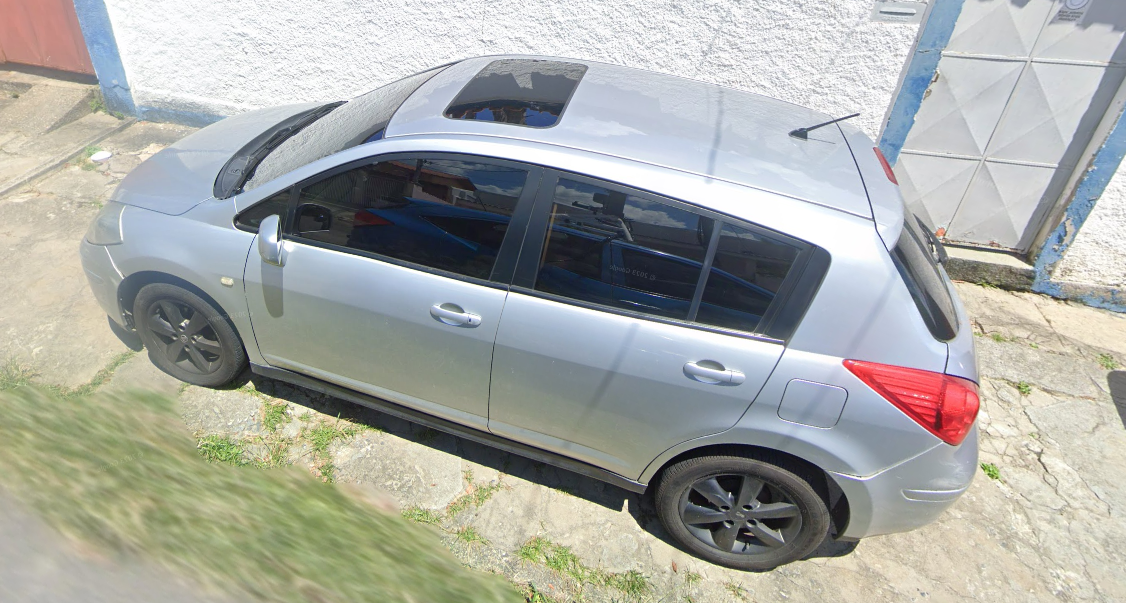car: (77, 54, 997, 572)
